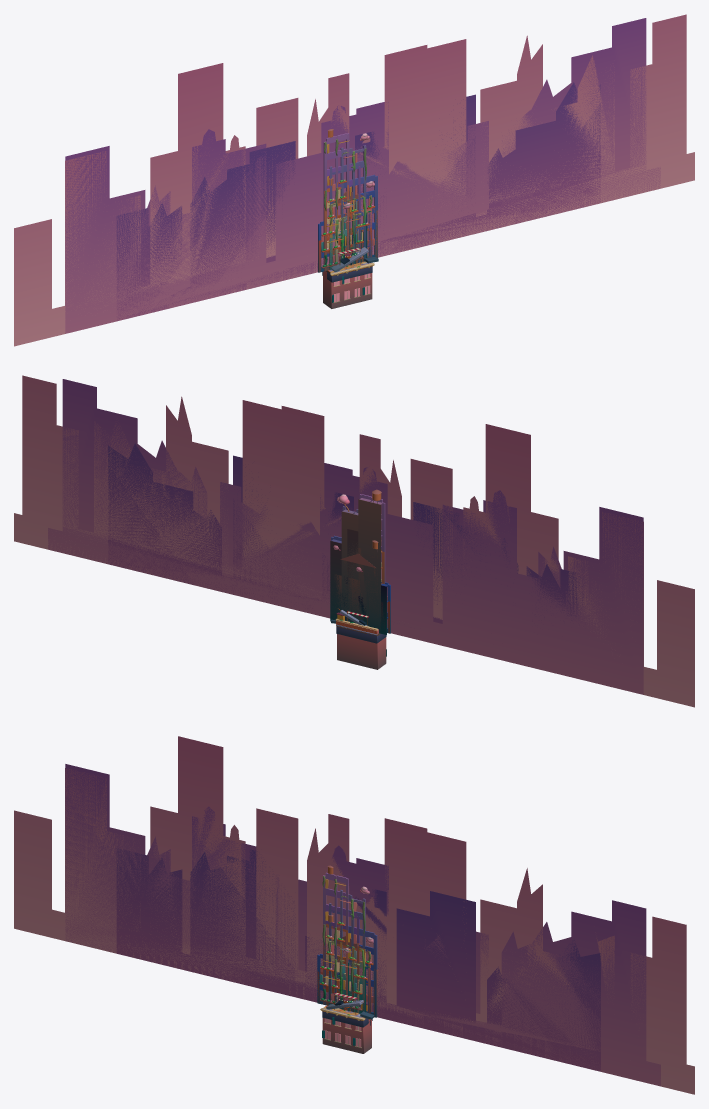
Rendered from city-Co_mVM2f.glb.
3 views of the same model, one above another, from view 1: azimuth 30°, elevation 25°; view 2: azimuth 150°, elevation 25°; view 3: azimuth 330°, elevation 25° (orthographic).
Visible parts, largest first — view 1: skylineMid, skylineFar, skylineNear, facade3, facade6, roofTop, facade1, facade4, facade2; view 2: skylineMid, skylineFar, skylineNear, facade6, facade3, roofTop, facade1, facade2; view 3: skylineFar, skylineMid, skylineNear, facade3, facade6, roofTop, facade1, facade2, facade4.
Boxes of the visible parts, box(x1,y1,x2,y2) form: skylineMid: box(65, 18, 660, 333); skylineFar: box(14, 14, 694, 346); skylineNear: box(116, 82, 600, 320); facade3: box(318, 133, 377, 272); facade6: box(323, 129, 372, 271); roofTop: box(323, 253, 374, 308); facade1: box(324, 177, 371, 270); facade4: box(328, 191, 366, 268); facade2: box(329, 212, 363, 269); skylineMid: box(48, 379, 643, 694); skylineFar: box(14, 375, 694, 707); skylineNear: box(108, 443, 587, 623); facade6: box(346, 489, 385, 632); facade3: box(330, 494, 390, 634); roofTop: box(336, 612, 386, 669); facade1: box(342, 540, 384, 633); facade2: box(341, 578, 364, 623); skylineFar: box(14, 736, 694, 1094); skylineMid: box(65, 764, 660, 1086); skylineNear: box(116, 848, 600, 1071); facade3: box(317, 886, 377, 1017); facade6: box(322, 865, 371, 1013); roofTop: box(320, 1004, 371, 1053); facade1: box(322, 914, 371, 1013); facade2: box(328, 961, 364, 1013); facade4: box(327, 936, 365, 1012).
Bounding box in the file's own units: 133 × 50 × 3.55.
